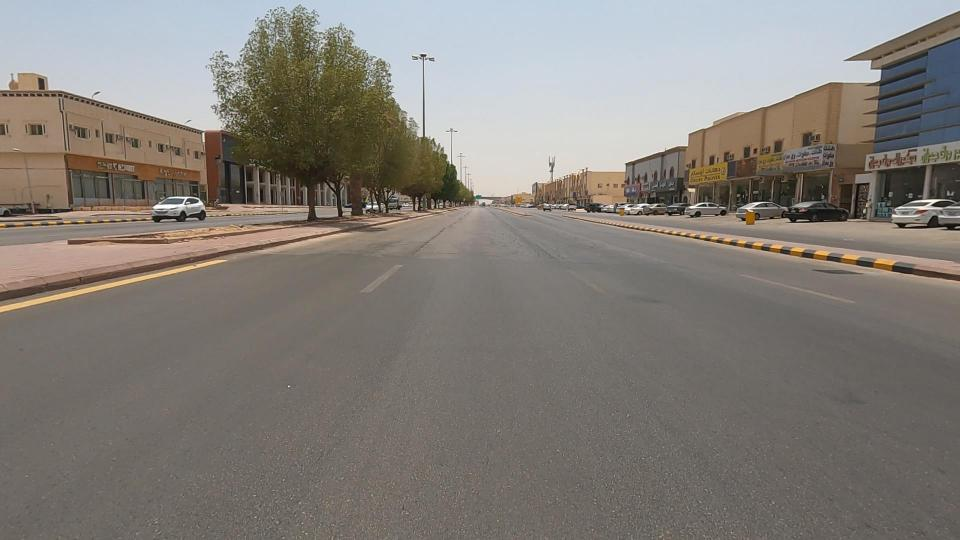BAD_BILLBOARD: (713, 144, 781, 197)
